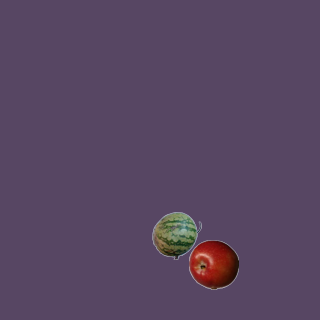Apple Braeburn: (188, 239, 238, 289)
Watermelon: (151, 210, 201, 260)
